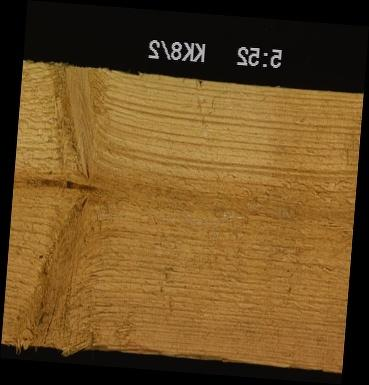wave: (90, 346, 230, 358)
